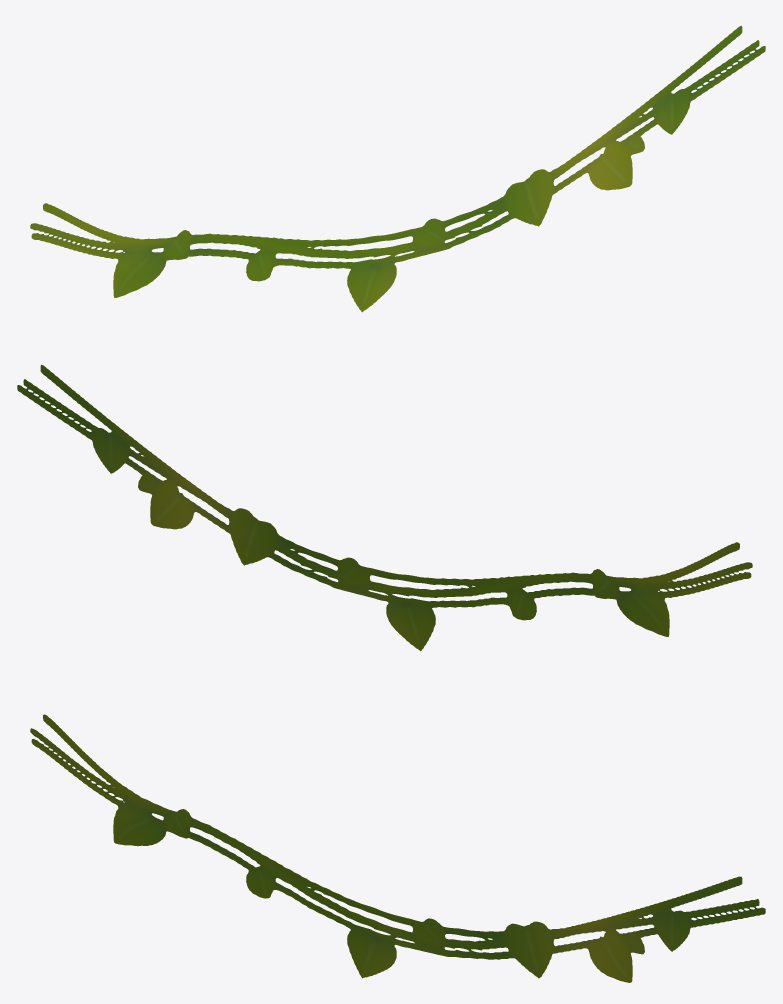
Rendered from Vine03.fbx.
3 views of the same model, one above another, from view 1: azimuth 30°, elevation 25°; view 2: azimuth 150°, elevation 25°; view 3: azimuth 330°, elevation 25° (orthographic).
Parts seen in each view (by area): view 1: Vine.008; view 2: Vine.008; view 3: Vine.008.
Boxes of the visible parts, box(x1,y1,x2,y2) form: Vine.008: box(30, 25, 765, 312); Vine.008: box(17, 364, 752, 651); Vine.008: box(30, 714, 765, 982).
Size of the model in its own units: 556 by 156 by 4.21e-05.
Materials: 1 (1 with a texture image).
